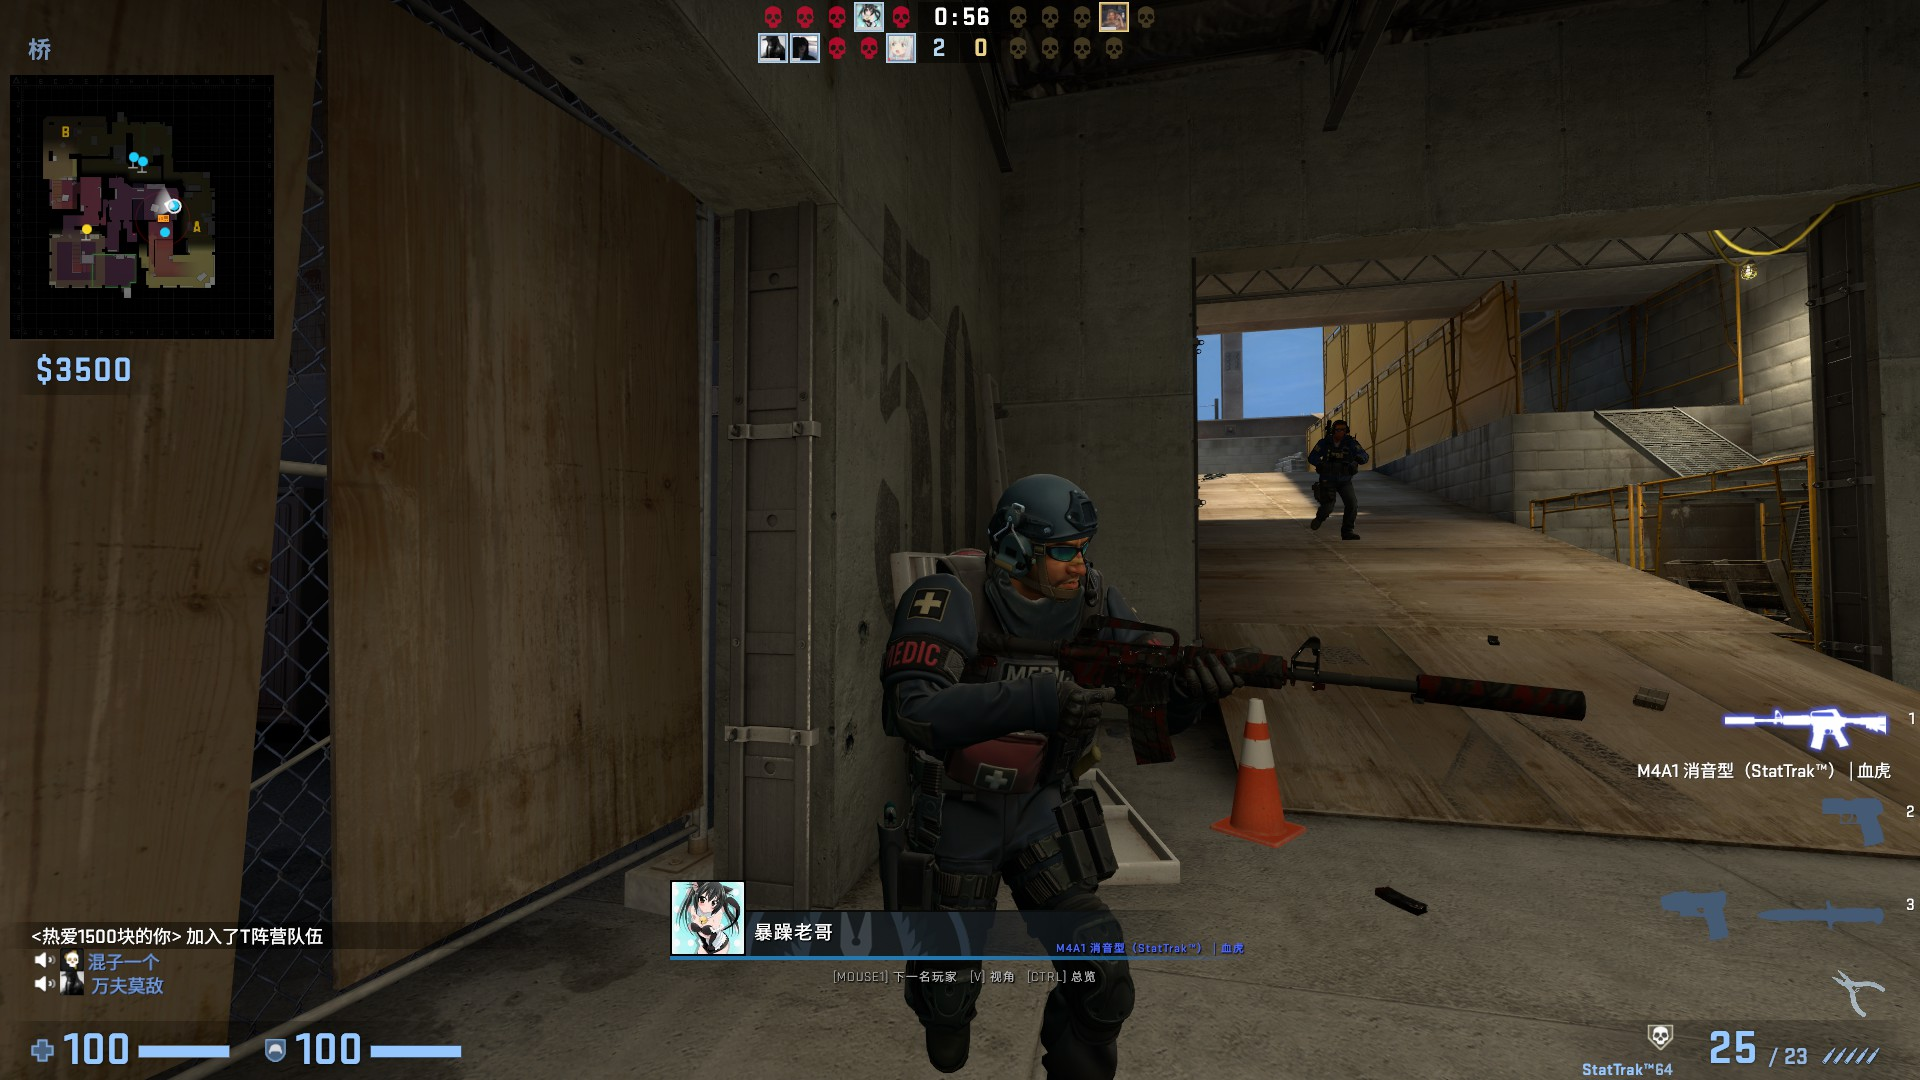head: (987, 468, 1093, 604), (1328, 418, 1350, 443)
